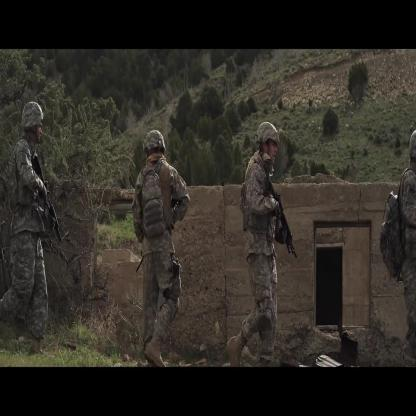Gun: (259, 166, 303, 269), (28, 151, 66, 249)
